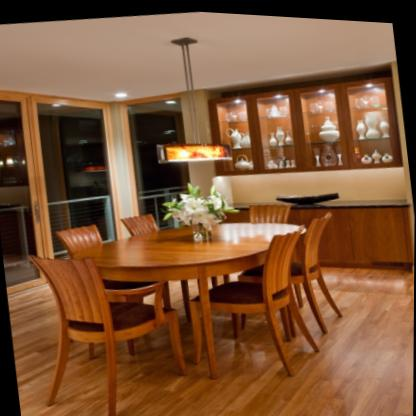Cupboard: (207, 60, 408, 257)
